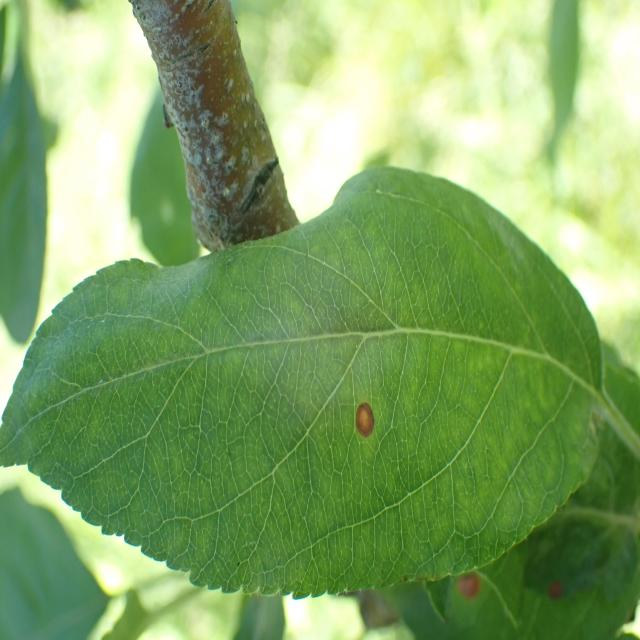Black Rot: (335, 395, 385, 447), (454, 557, 486, 620)
